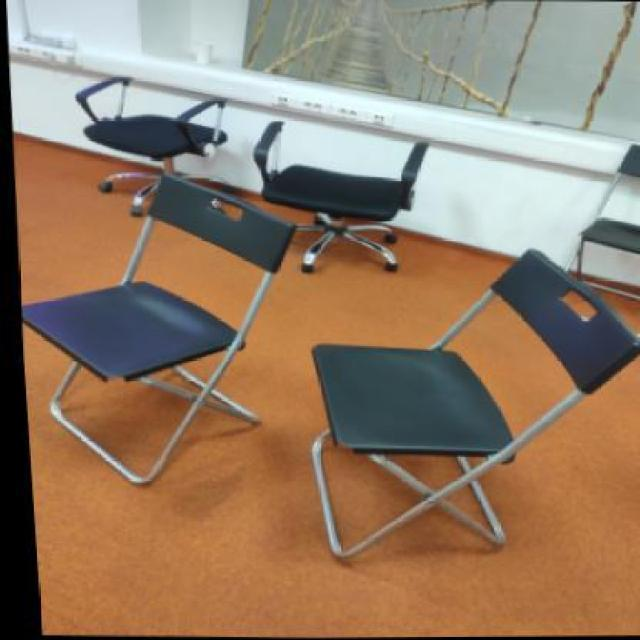chair: (309, 247, 639, 559), (21, 171, 296, 485), (252, 119, 429, 273), (74, 75, 228, 216), (575, 143, 639, 305)
